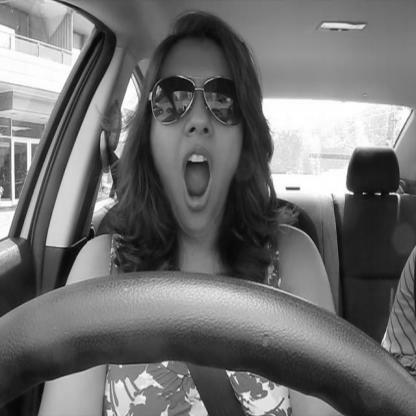seatbelt: (98, 0, 276, 416)
